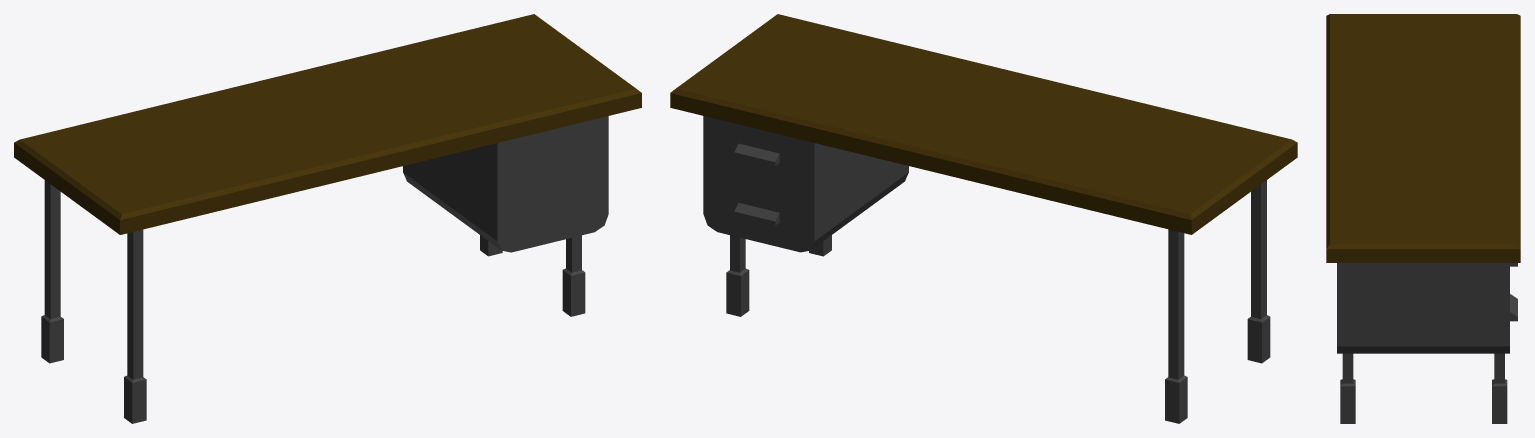
The model's file is Destop.fbx.
The picture shows the model from 3 angles, left to right: view 1: azimuth 30°, elevation 25°; view 2: azimuth 150°, elevation 25°; view 3: azimuth 270°, elevation 25°; orthographic projection. The views are drawn at different scales.
Parts seen in each view (by area): view 1: pCube38; view 2: pCube38; view 3: pCube38.
Part boxes in pixels (x1,y1,x2,y2): pCube38: [14, 14, 641, 423]; pCube38: [670, 14, 1297, 423]; pCube38: [1326, 14, 1520, 423].
Size of the model in its own units: 302 by 120 by 106.
